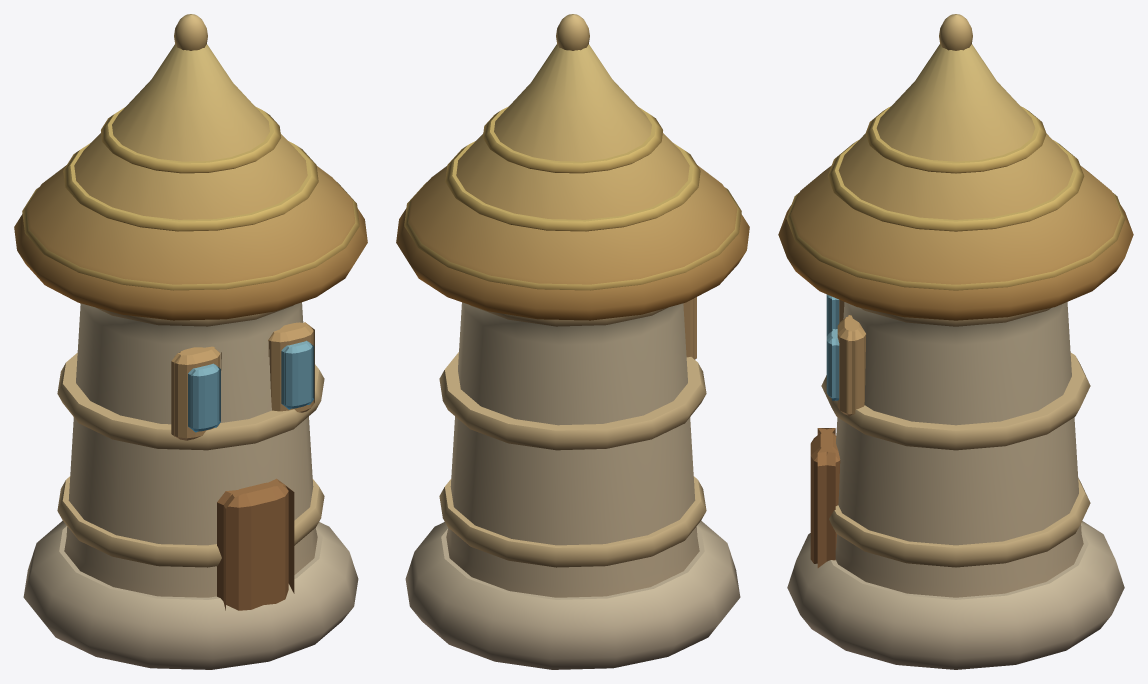
Rendered from Origin_Fairytale_Lookout.glb.
The picture shows the model from 3 angles, left to right: view 1: azimuth 30°, elevation 25°; view 2: azimuth 150°, elevation 25°; view 3: azimuth 270°, elevation 25°; orthographic projection.
Parts seen in each view (by area): view 1: Origin_Fairytale_Lookout; view 2: Origin_Fairytale_Lookout; view 3: Origin_Fairytale_Lookout.
Boxes of the visible parts, x1,y1,x2,y2 form: Origin_Fairytale_Lookout: (14, 14, 367, 669); Origin_Fairytale_Lookout: (396, 14, 749, 669); Origin_Fairytale_Lookout: (778, 14, 1133, 669).
Size of the model in its own units: 1.98 by 3.62 by 1.98.
